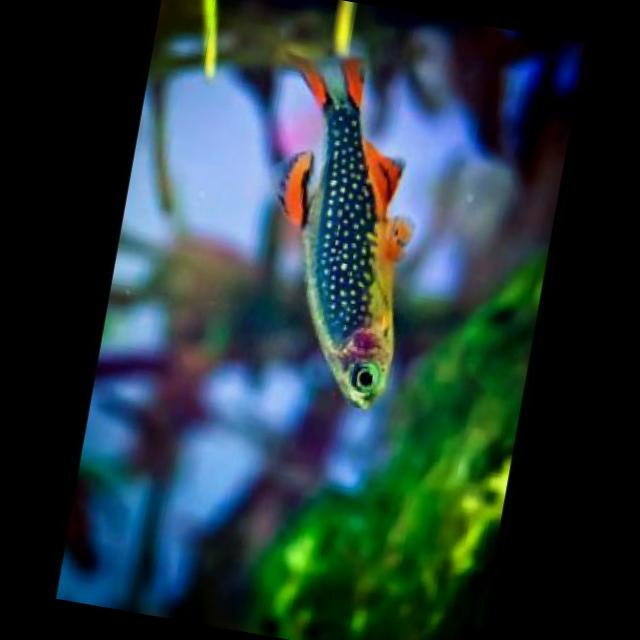ZebraFish: (230, 39, 443, 414)
